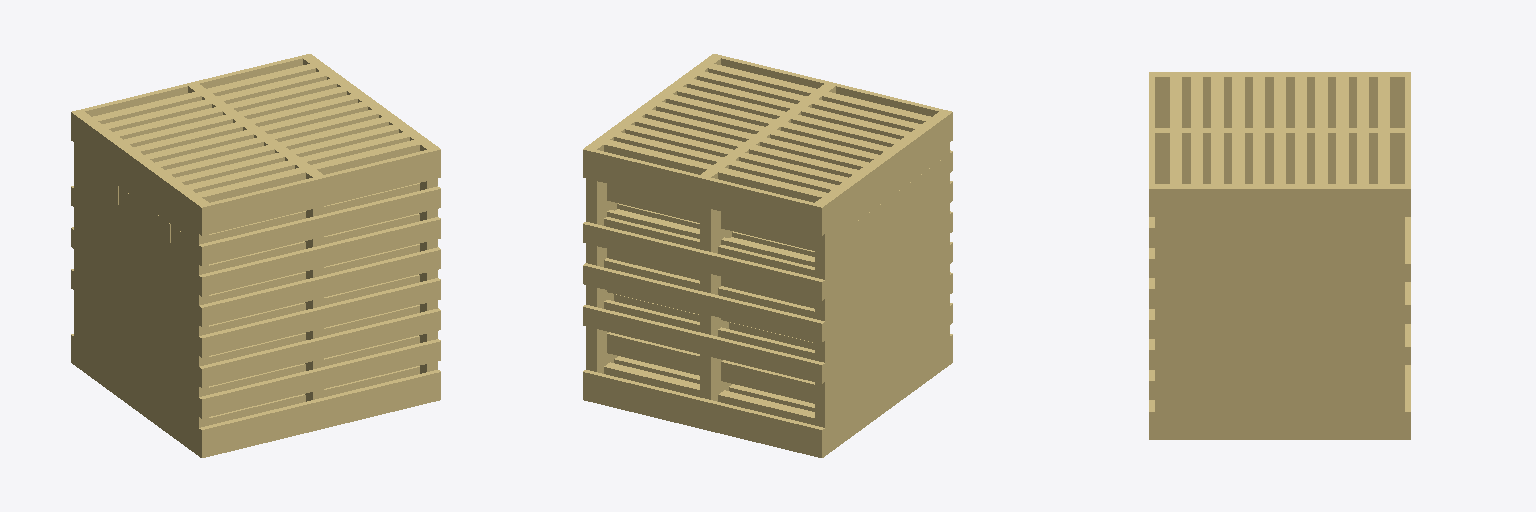
File: tarimas.obj
The picture shows the model from 3 angles: view 1: azimuth 30°, elevation 25°; view 2: azimuth 150°, elevation 25°; view 3: azimuth 270°, elevation 25°; orthographic projection.
Visible parts, largest first — view 1: obj_0; view 2: obj_0; view 3: obj_0.
Part boxes in pixels (bbox=[...]): obj_0: bbox=[71, 54, 440, 457]; obj_0: bbox=[583, 54, 952, 457]; obj_0: bbox=[1149, 72, 1410, 439].
Bounding box in the file's own units: 13.31 × 13.3 × 12.6.